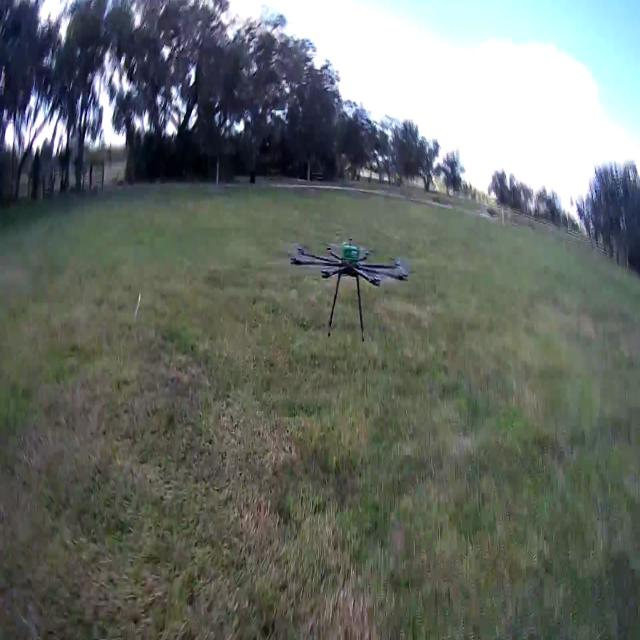drone: (279, 216, 417, 350)
